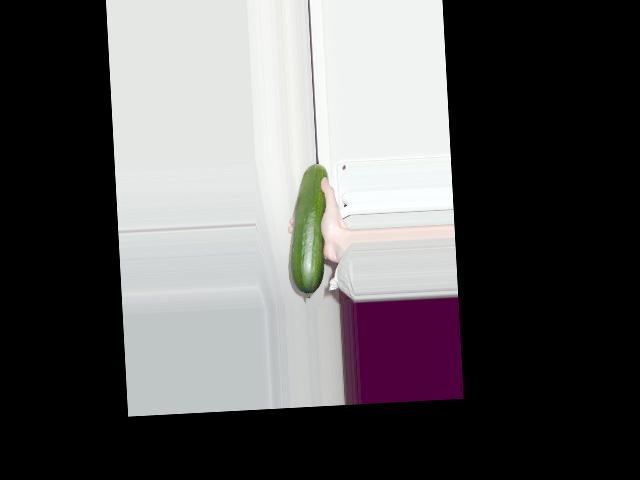cucumber: (282, 163, 334, 299)
